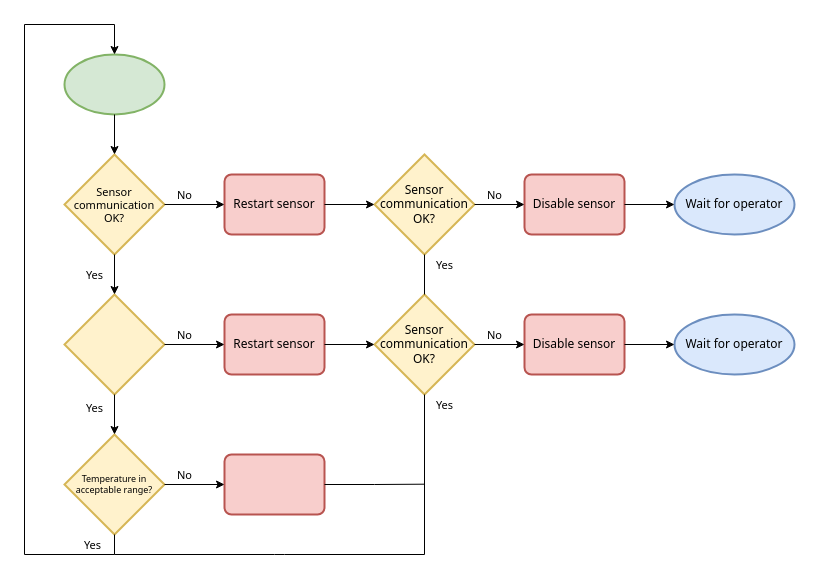
The diagram is 813 pixels wide and 580 high, and some of its shapes have lost their labels. Here are the shapes that lost their labels. From the top down, the box of each, then its label:
(63, 53, 165, 115): Start
(63, 293, 165, 395): Temperature data OK?
(223, 453, 325, 515): Restart subsystem
